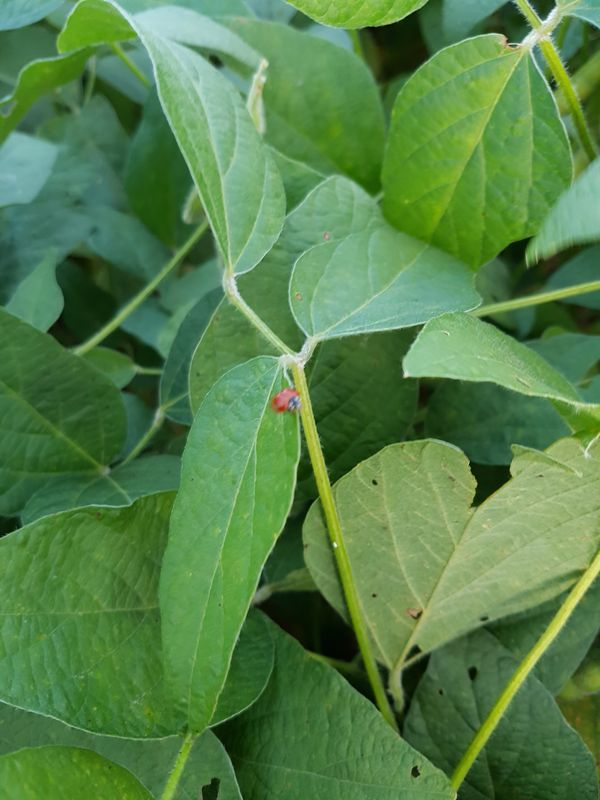Coccinellidae: (262, 378, 312, 424)
